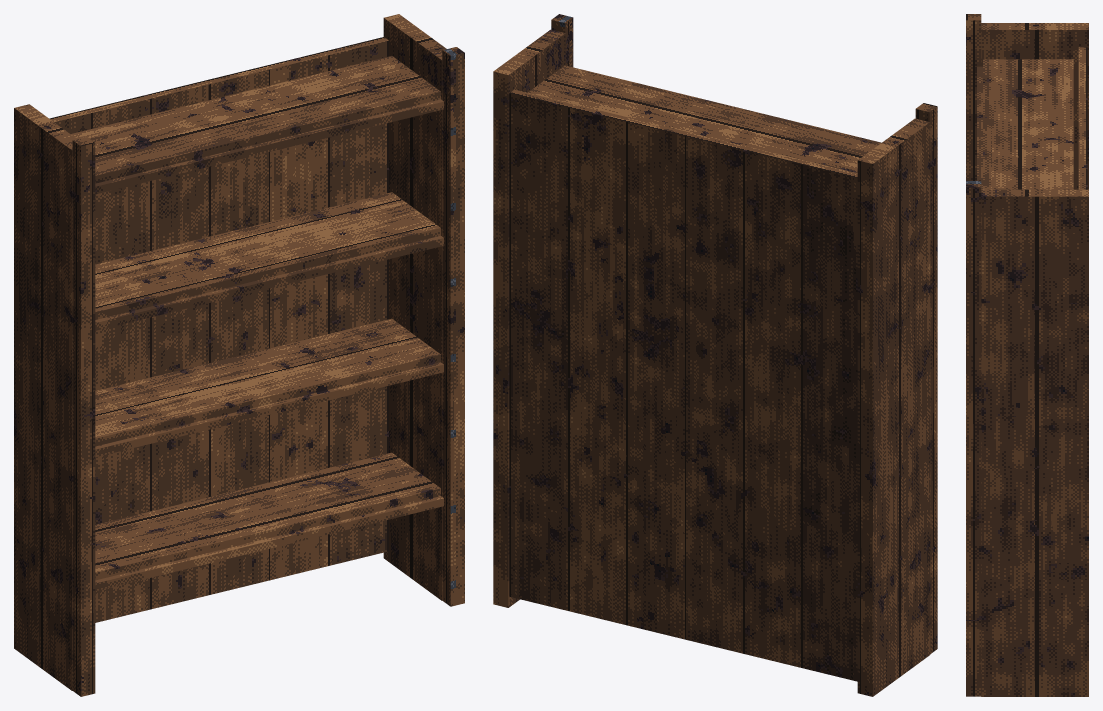
Rendered from SM_Prop_LobbyBookshelf_01.glb.
3 renders of one model, left to right at view 1: azimuth 30°, elevation 25°; view 2: azimuth 150°, elevation 25°; view 3: azimuth 270°, elevation 25°, orthographic. The views are drawn at different scales.
Parts seen in each view (by area): view 1: back_boards, side_left, side_right, shelf_3, shelf_0, shelf_1, shelf_2, post_left, post_right, front_rail_3, front_rail_0, front_rail_1 (+1 smaller); view 2: back_boards, side_left, shelf_3, side_right, post_left, post_right; view 3: side_right, shelf_3, post_right, side_left, post_left, back_boards, front_rail_3.
Part boxes in pixels (x1,y1,x2,y2): back_boards: (49, 37, 388, 622); side_left: (14, 104, 76, 690); side_right: (383, 14, 446, 600); shelf_3: (71, 56, 440, 183); shelf_0: (95, 452, 440, 580); shelf_1: (95, 318, 440, 446); shelf_2: (95, 192, 440, 319); post_left: (72, 137, 95, 696); post_right: (442, 47, 464, 606); front_rail_3: (95, 99, 443, 194); front_rail_0: (95, 496, 443, 591); front_rail_1: (95, 362, 443, 457); back_boards: (509, 89, 857, 681); side_left: (857, 118, 930, 696); shelf_3: (527, 65, 881, 173); side_right: (493, 29, 565, 607); post_left: (915, 103, 937, 653); post_right: (551, 14, 573, 67); side_right: (981, 189, 1088, 696); shelf_3: (983, 59, 1073, 189); post_right: (966, 181, 981, 696); side_left: (981, 23, 1088, 189); post_left: (966, 14, 981, 180); back_boards: (1078, 47, 1087, 189); front_rail_3: (977, 66, 982, 189).
Size of the model in its own units: 1.62 by 2.22 by 0.485.
Materials: 1 (1 with a texture image).
